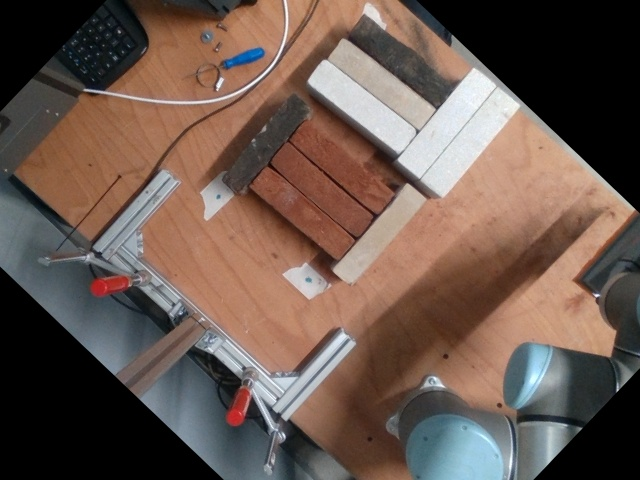brick-side: (396, 67, 494, 177), (421, 87, 519, 197), (309, 58, 417, 152), (347, 14, 455, 105), (271, 143, 374, 235), (290, 121, 393, 213), (329, 37, 434, 127), (334, 185, 427, 286), (251, 165, 352, 256), (220, 92, 310, 194)
